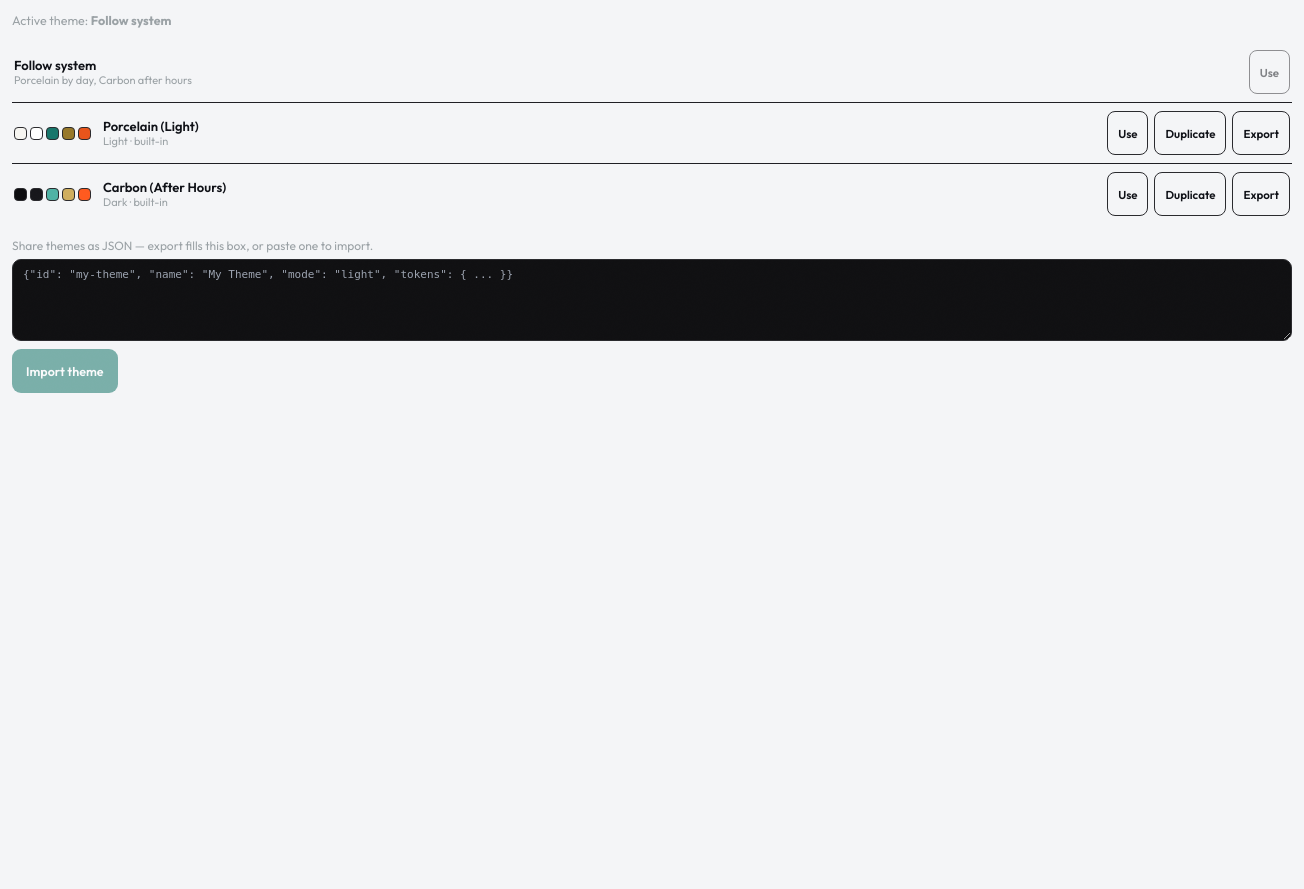
ThemeStudio › duplicates a built-in into a persisted custom theme and opens the editor
Click the button "Duplicate" in the row of "Porcelain (Light)" at (1190, 133), box [1154,111,1226,155]
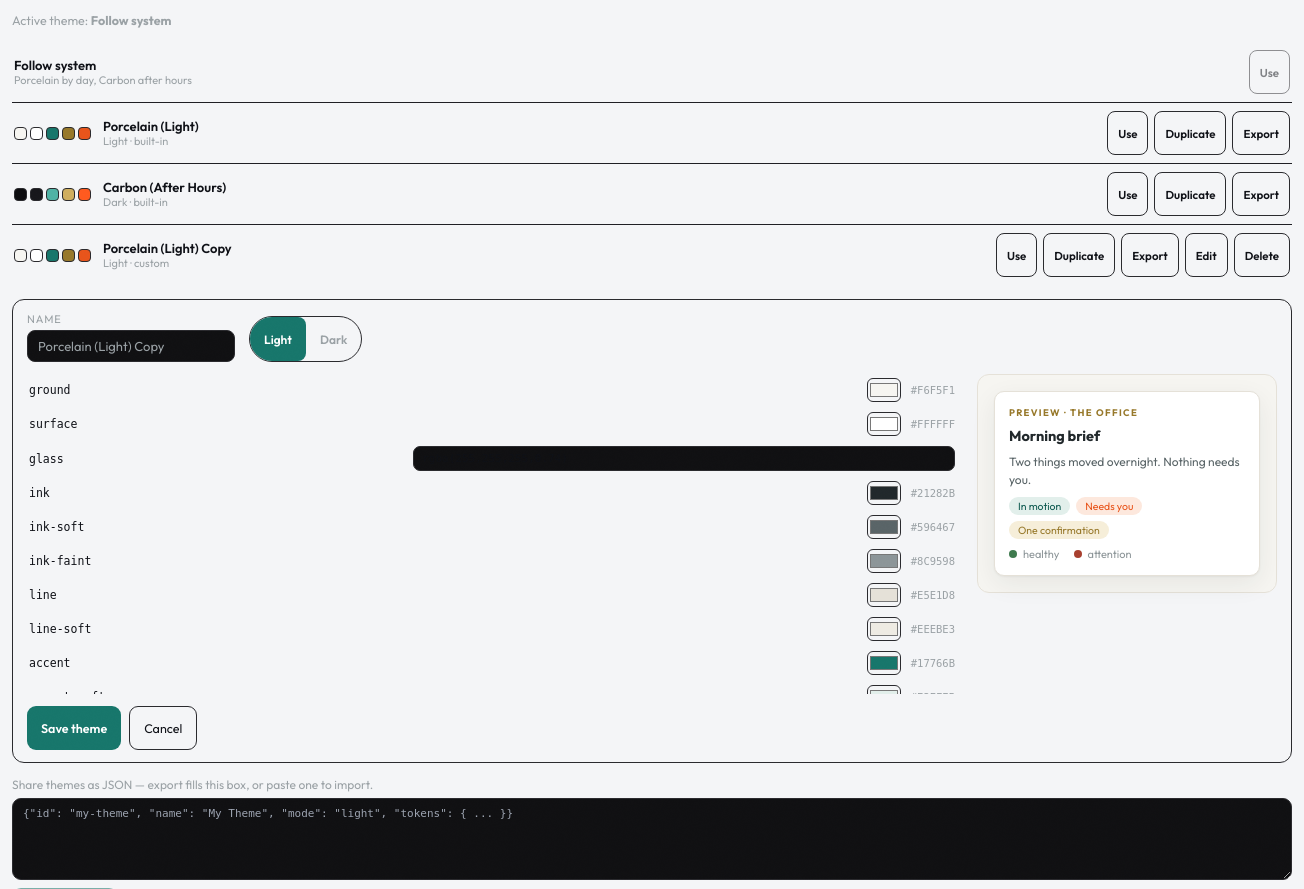
Now the element with test id "theme-editor" is shown, box [12,299,1292,763]
